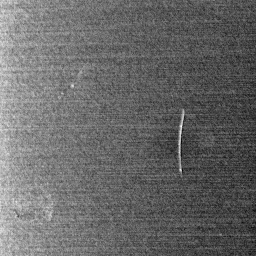sct: (173, 105, 189, 184)
